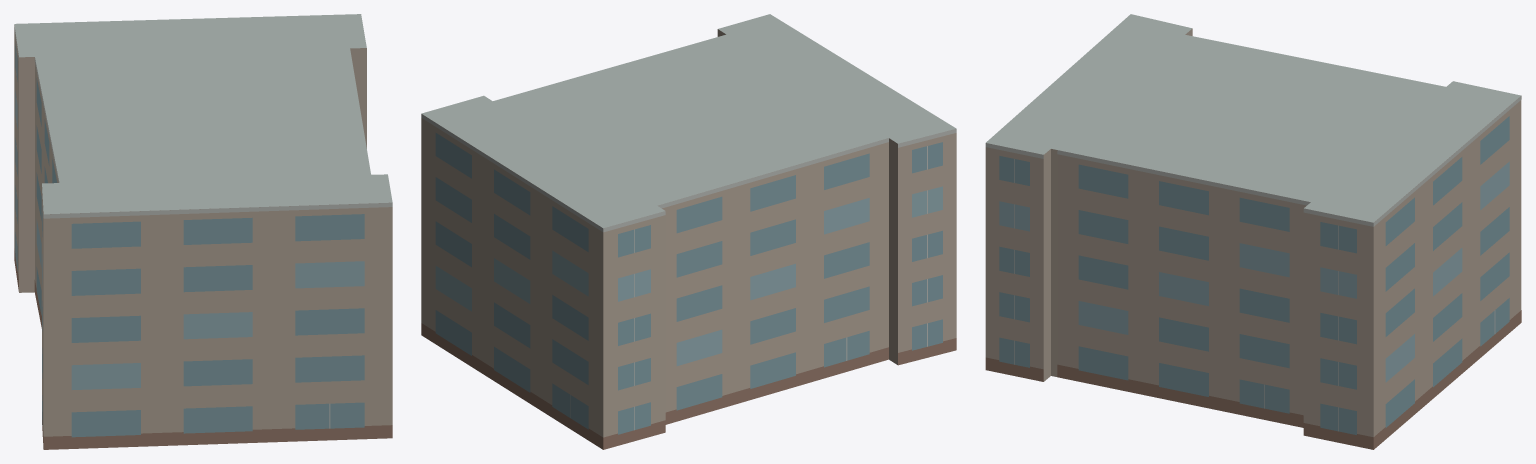
Rendered from survey-upis-32944159.glb.
3 views of the same model, side by side, from view 1: azimuth 30°, elevation 25°; view 2: azimuth 150°, elevation 25°; view 3: azimuth 270°, elevation 25° (orthographic). The views are drawn at different scales.
Visible parts, largest first — view 1: survey-upis-32944159.tmp; view 2: survey-upis-32944159.tmp; view 3: survey-upis-32944159.tmp.
Boxes of the visible parts, box(x1,y1,x2,y2) form: survey-upis-32944159.tmp: box(14, 14, 392, 449); survey-upis-32944159.tmp: box(421, 14, 956, 449); survey-upis-32944159.tmp: box(985, 14, 1521, 449).
Size of the model in its own units: 26.01 by 13.2 by 28.23.
